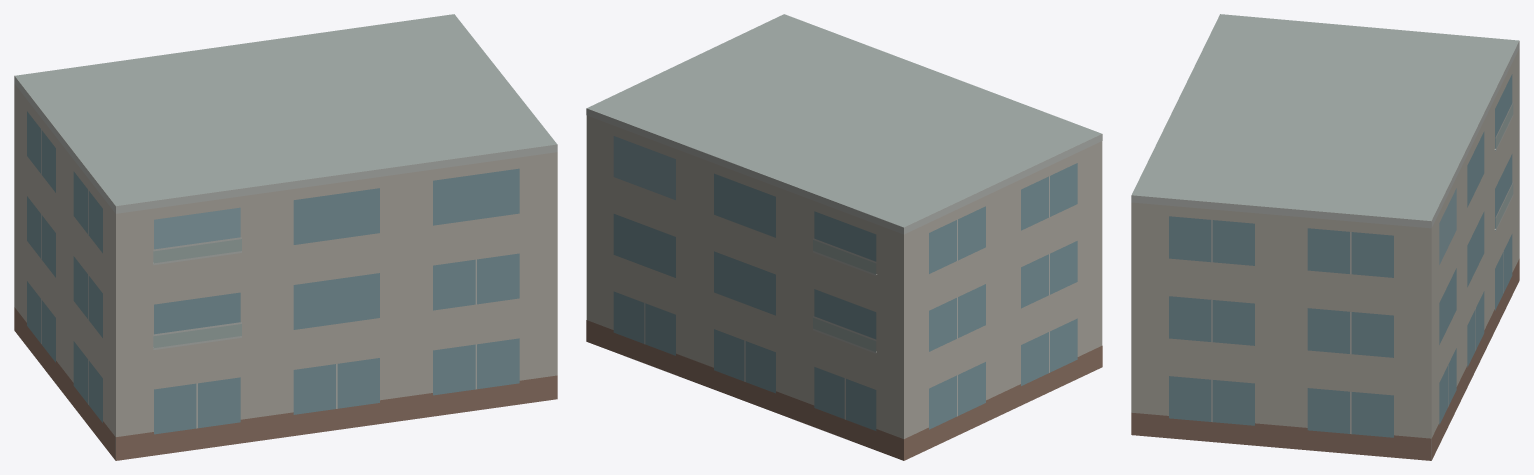
The model's file is survey-upis-32671815.glb.
3 renders of one model, left to right at view 1: azimuth 30°, elevation 25°; view 2: azimuth 150°, elevation 25°; view 3: azimuth 270°, elevation 25°, orthographic. The views are drawn at different scales.
Parts seen in each view (by area): view 1: survey-upis-32671815.tmp; view 2: survey-upis-32671815.tmp; view 3: survey-upis-32671815.tmp.
Part boxes in pixels (x1,y1,x2,y2): survey-upis-32671815.tmp: (14,14,557,460); survey-upis-32671815.tmp: (586,14,1102,460); survey-upis-32671815.tmp: (1131,14,1519,460).
Bounding box in the file's own units: 15.02 × 8.1 × 11.9.
